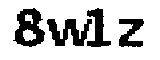1: (92, 7, 114, 55)
8: (13, 5, 46, 52)
w: (45, 16, 91, 53)
z: (119, 12, 145, 50)
